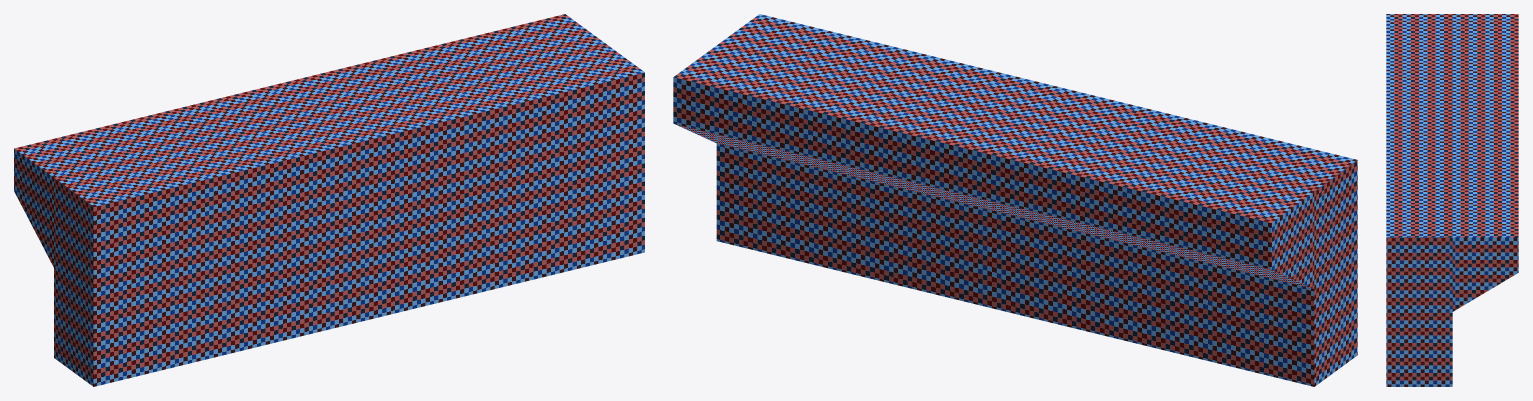
File: border_pieceV2_01.fbx
3 views of the same model, side by side, from view 1: azimuth 30°, elevation 25°; view 2: azimuth 150°, elevation 25°; view 3: azimuth 270°, elevation 25° (orthographic). The views are drawn at different scales.
Parts seen in each view (by area): view 1: border_pieceV2_01; view 2: border_pieceV2_01; view 3: border_pieceV2_01.
Boxes of the visible parts, x1,y1,x2,y2 form: border_pieceV2_01: (14,14,644,386); border_pieceV2_01: (673,14,1357,386); border_pieceV2_01: (1386,14,1518,386).
Bounding box in the file's own units: 400 × 125 × 100.
Materials: 1 (1 with a texture image).
